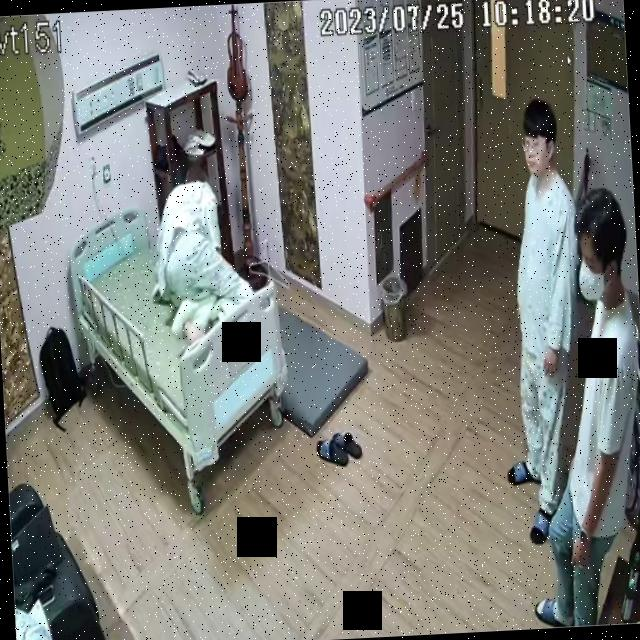danger: (146, 160, 256, 348)
patient: (488, 96, 592, 547), (146, 160, 258, 348)
stand: (514, 184, 640, 629), (489, 98, 592, 548)
